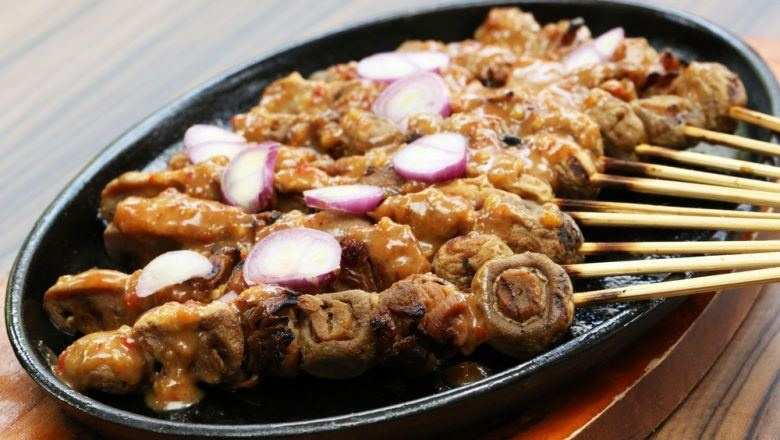sate: (36, 252, 780, 407)
